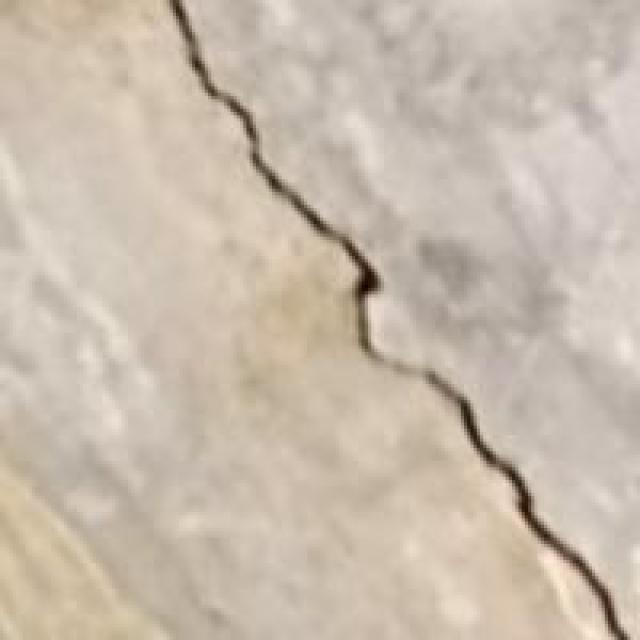Crack: (144, 0, 637, 637)
